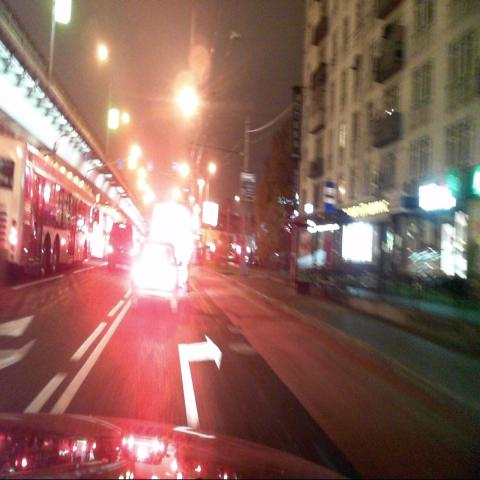5_16: (324, 181, 337, 215)
